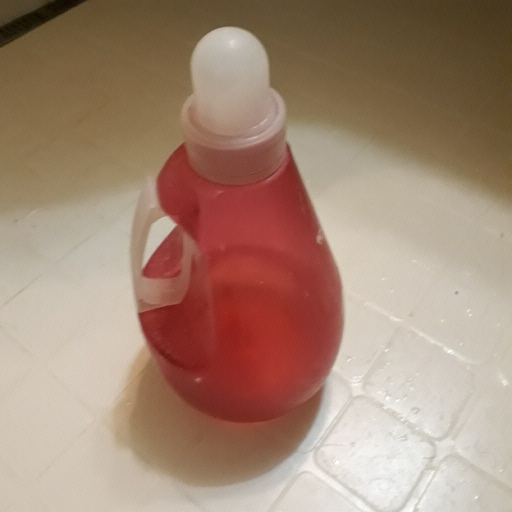Plastic_1: (131, 25, 350, 424)
